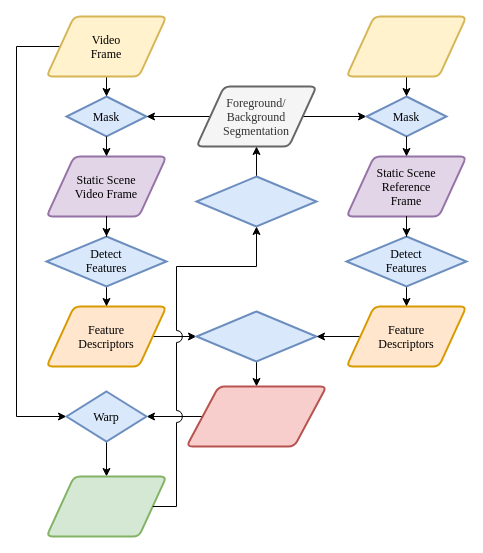
This 483x553 diagram has some shape labels left out. Each missing label, with the centre of its shape:
Homographic Transformation Matrix: the point at 256,416
Match Features: the point at 256,336
Reference Frame: the point at 406,46
Stabilized Video Frame: the point at 106,506
Update Segmentation: the point at 256,201
